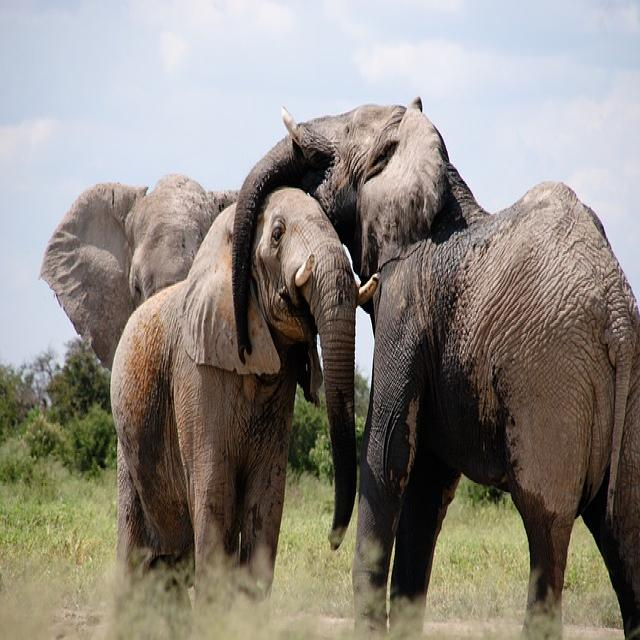elephant: (230, 99, 640, 640), (109, 169, 360, 604), (40, 175, 236, 372)
